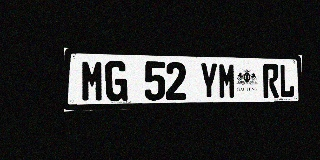2: (166, 62, 186, 100)
5: (145, 61, 165, 101)
G: (105, 60, 127, 102)
L: (279, 64, 295, 98)
M: (81, 60, 104, 102), (218, 63, 236, 99)
R: (263, 64, 279, 98)
Y: (199, 62, 218, 99)
